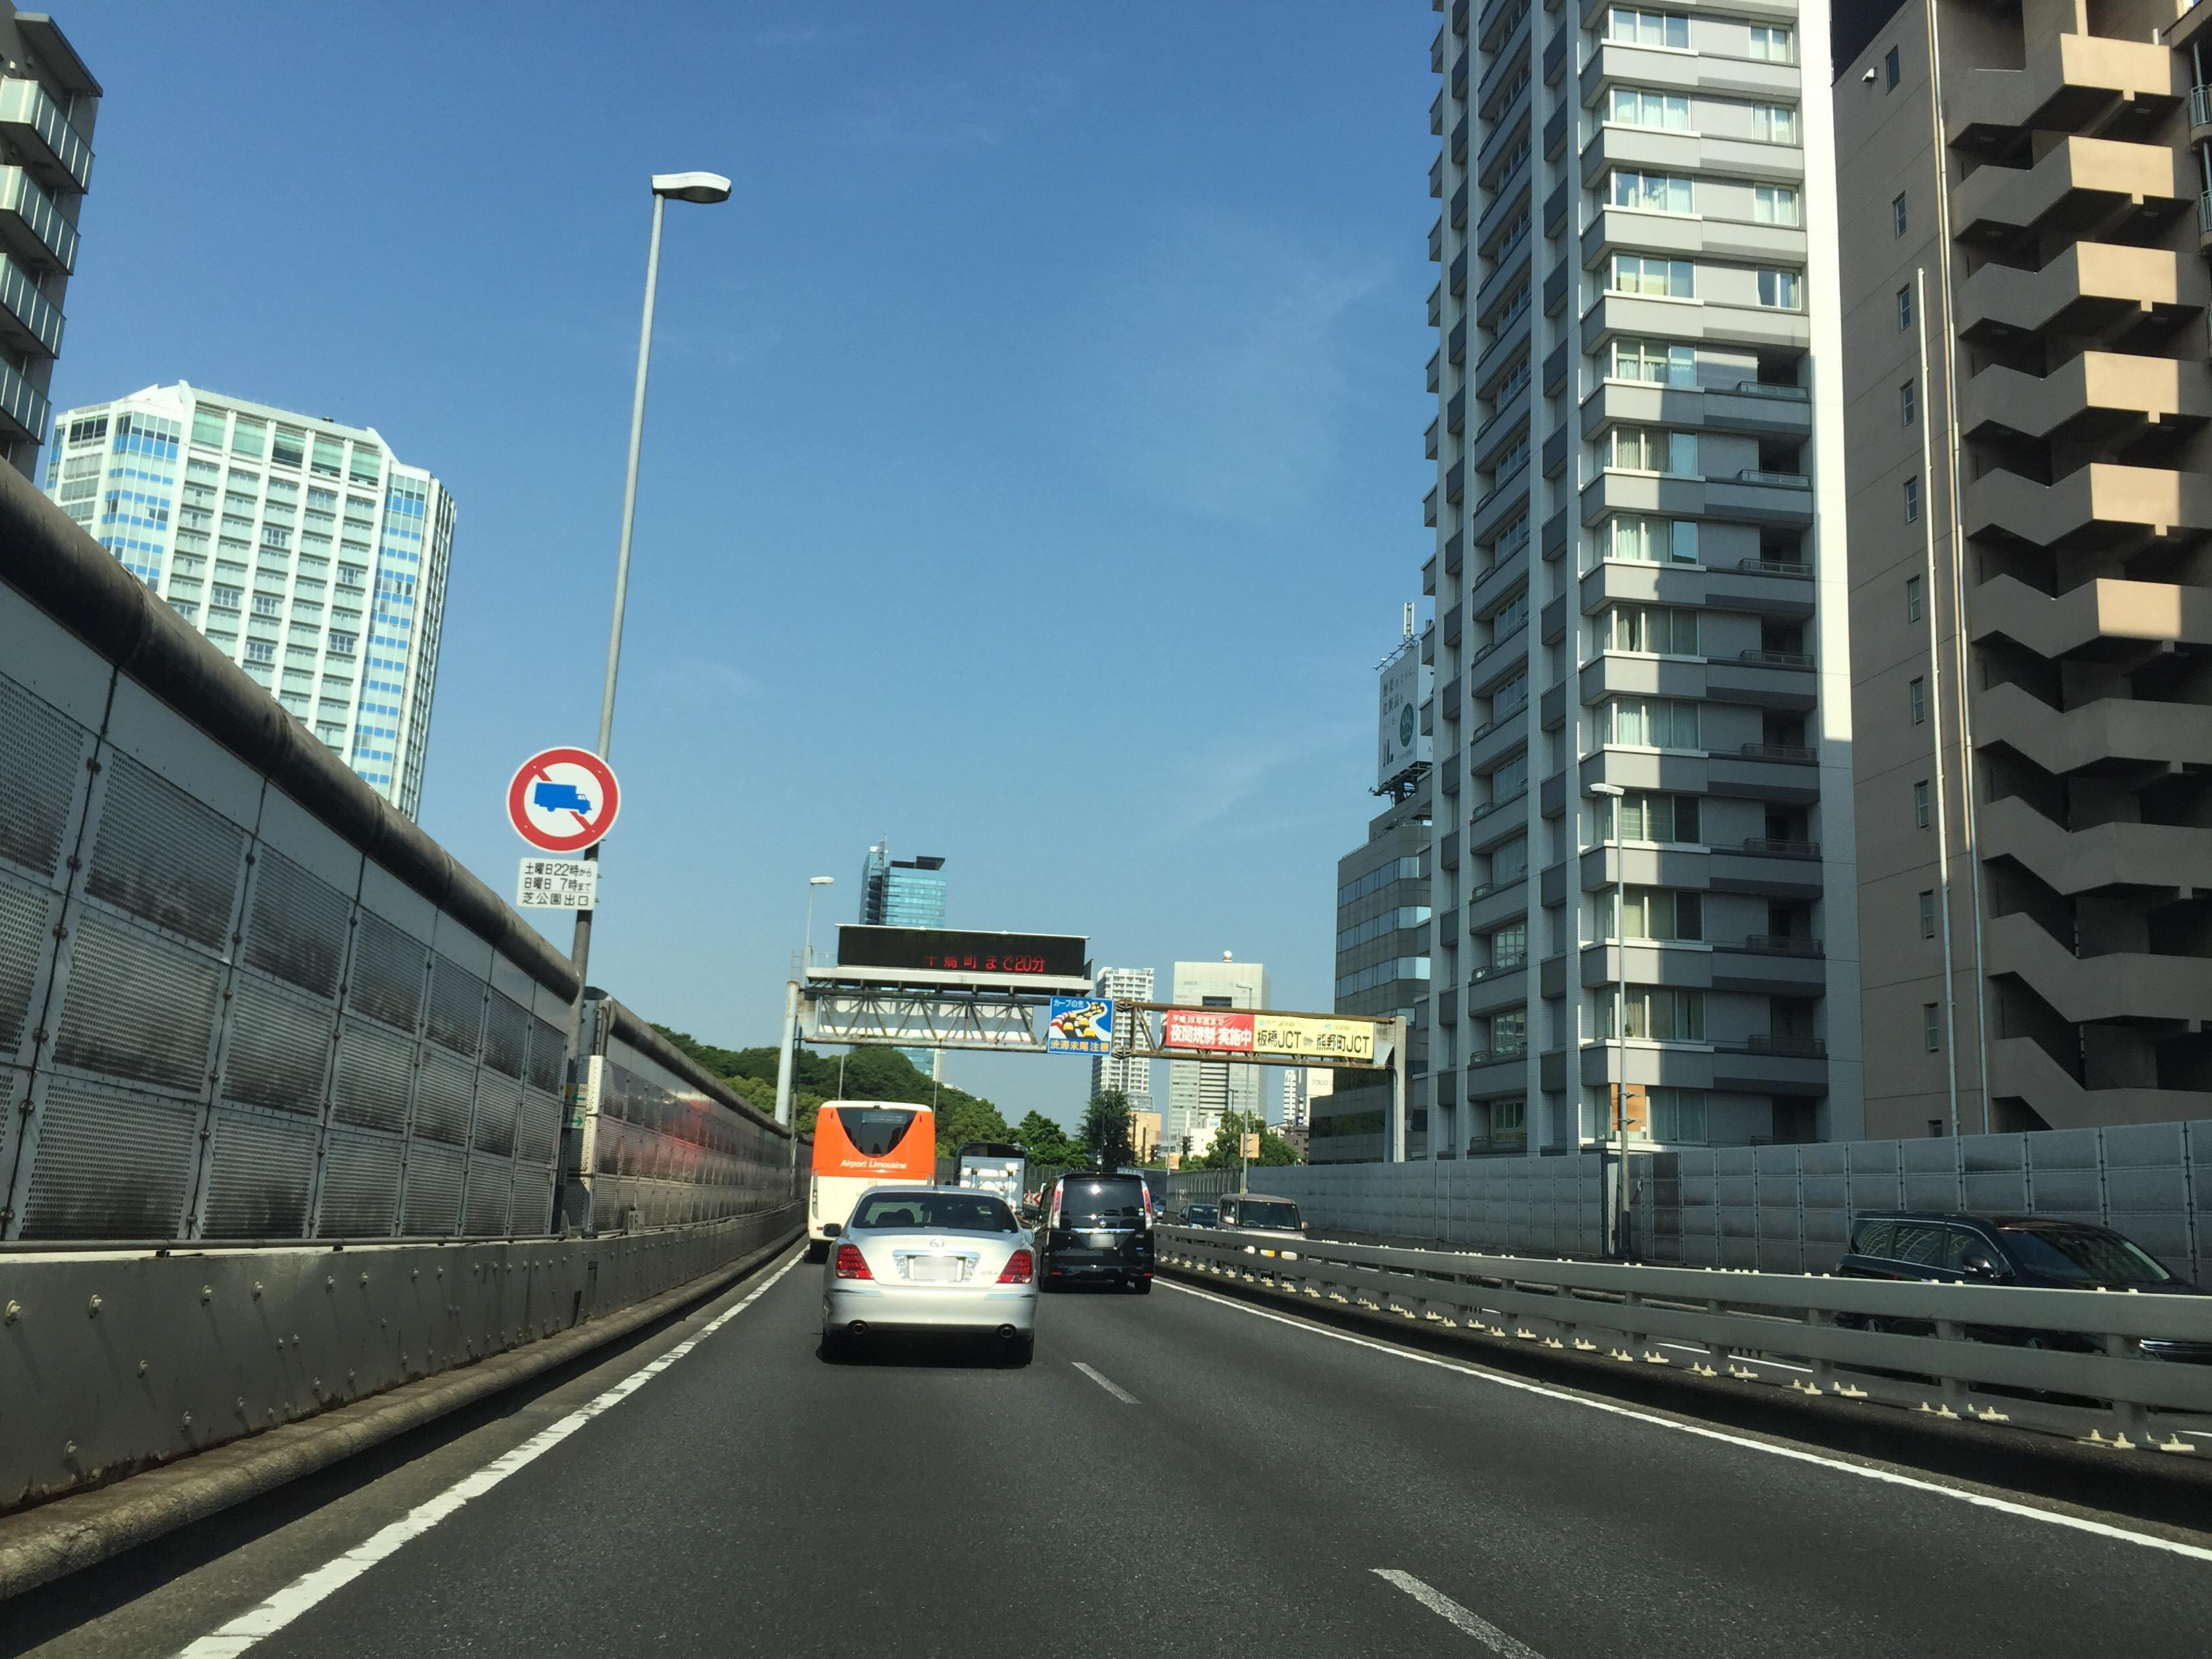vinyl banner: (1155, 990, 1388, 1073), (1036, 974, 1120, 1058)
